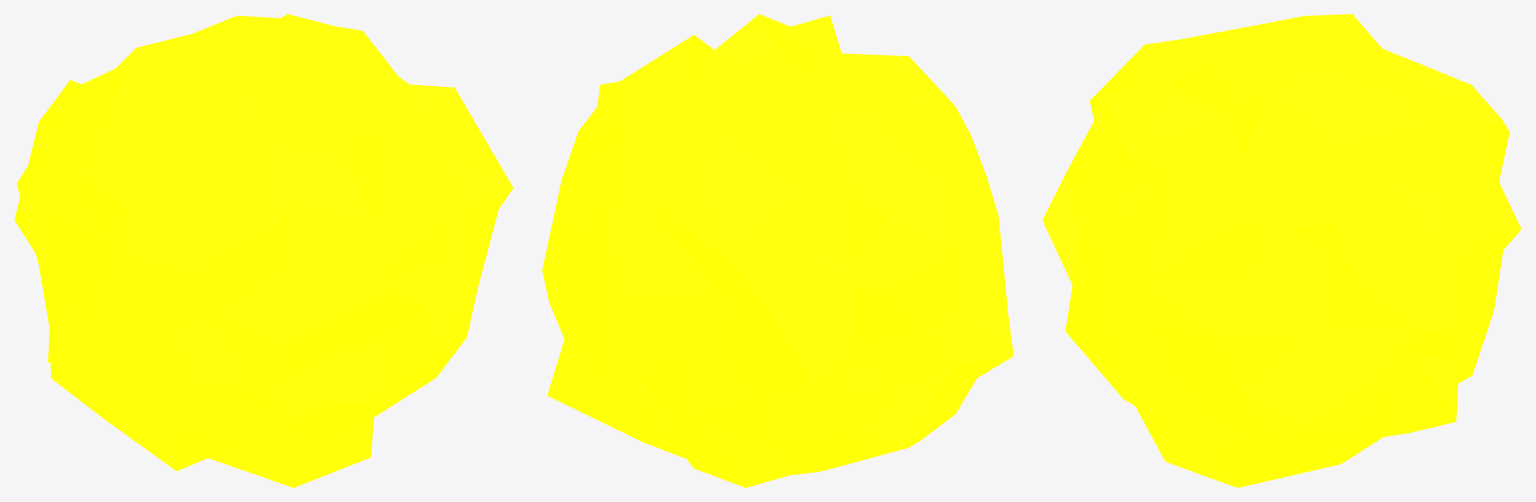
File: fireball.fbx
3 views of the same model, side by side, from view 1: azimuth 30°, elevation 25°; view 2: azimuth 150°, elevation 25°; view 3: azimuth 270°, elevation 25° (orthographic).
Parts seen in each view (by area): view 1: Icosphere; view 2: Icosphere; view 3: Icosphere.
Boxes of the visible parts, x1,y1,x2,y2 form: Icosphere: [14, 14, 513, 487]; Icosphere: [542, 14, 1013, 487]; Icosphere: [1042, 14, 1521, 487].
Size of the model in its own units: 106 by 97.84 by 100.
